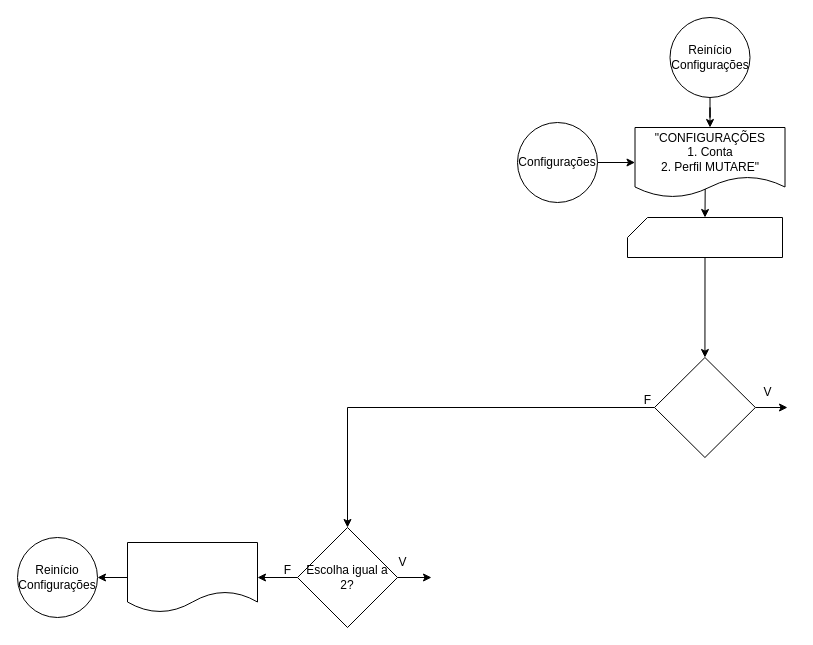
Some shapes in this 813 by 645 pixel diagram are drawn without their labels. The centre of each missing label's shape, as x and y in pixels:
"Dígito inválido. Digite novamente.": pixel 192 577
Dígito de Escolha: pixel 704 237
Escolha igual a 1?: pixel 704 407
